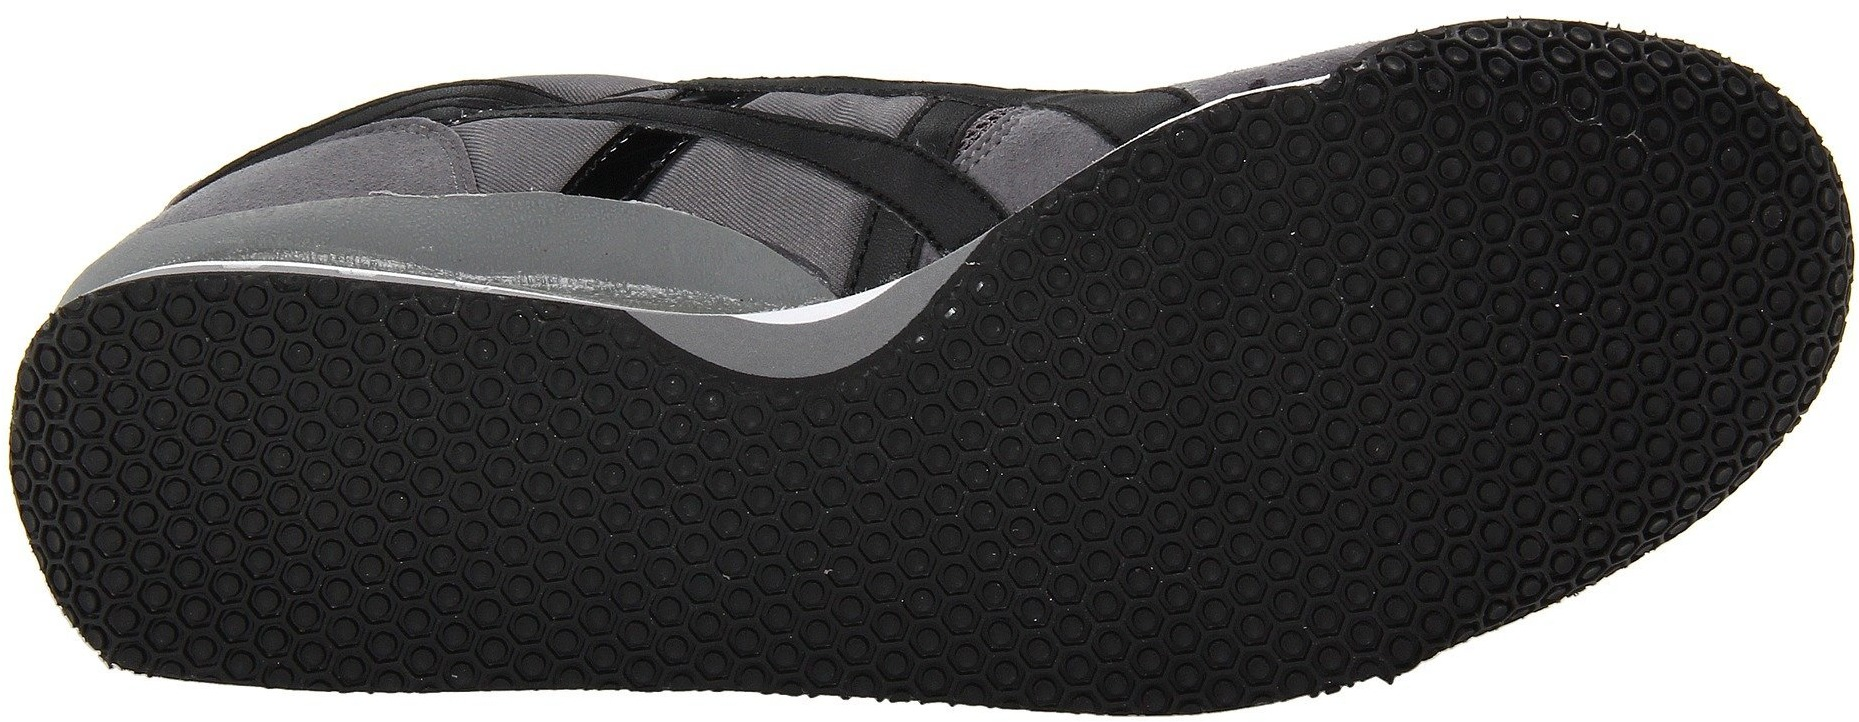circle: (982, 262, 1316, 582), (330, 351, 653, 662), (664, 398, 958, 681), (1316, 102, 1596, 358), (60, 317, 317, 575), (1606, 146, 1836, 379), (1333, 365, 1553, 595)
polygon: (982, 262, 1316, 582), (330, 351, 653, 662), (664, 398, 958, 681), (1316, 102, 1596, 358), (60, 317, 317, 575), (1606, 146, 1836, 379), (1333, 365, 1553, 595)
